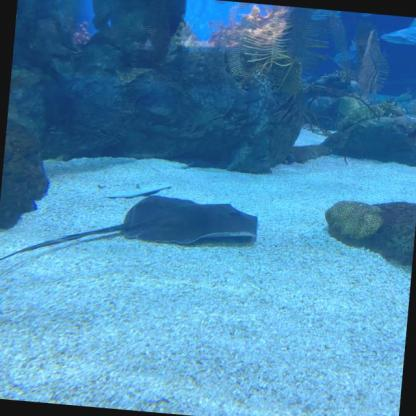fish: (332, 41, 390, 68), (312, 8, 356, 24), (358, 13, 397, 20)
shark: (378, 14, 415, 49)
stingray: (119, 191, 261, 252)
